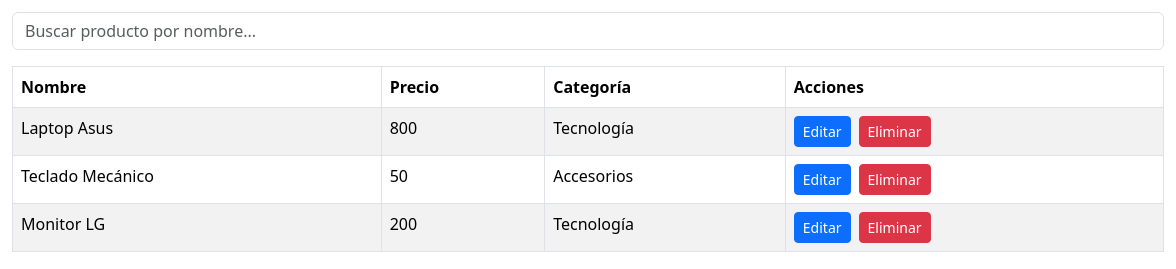
ProductTable.vue › debería mostrar un mensaje si no se encuentran coincidencias
Type "ProductoInexistente" into the field with placeholder "Buscar producto por nombre..." at coordinates (588, 31), box [12, 12, 1164, 50]
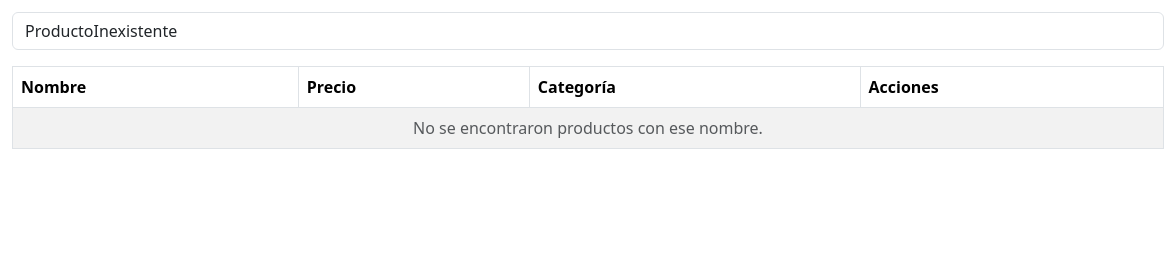
Now the text "No se encontraron productos con ese nombre." is shown, box [12, 108, 1164, 148]
